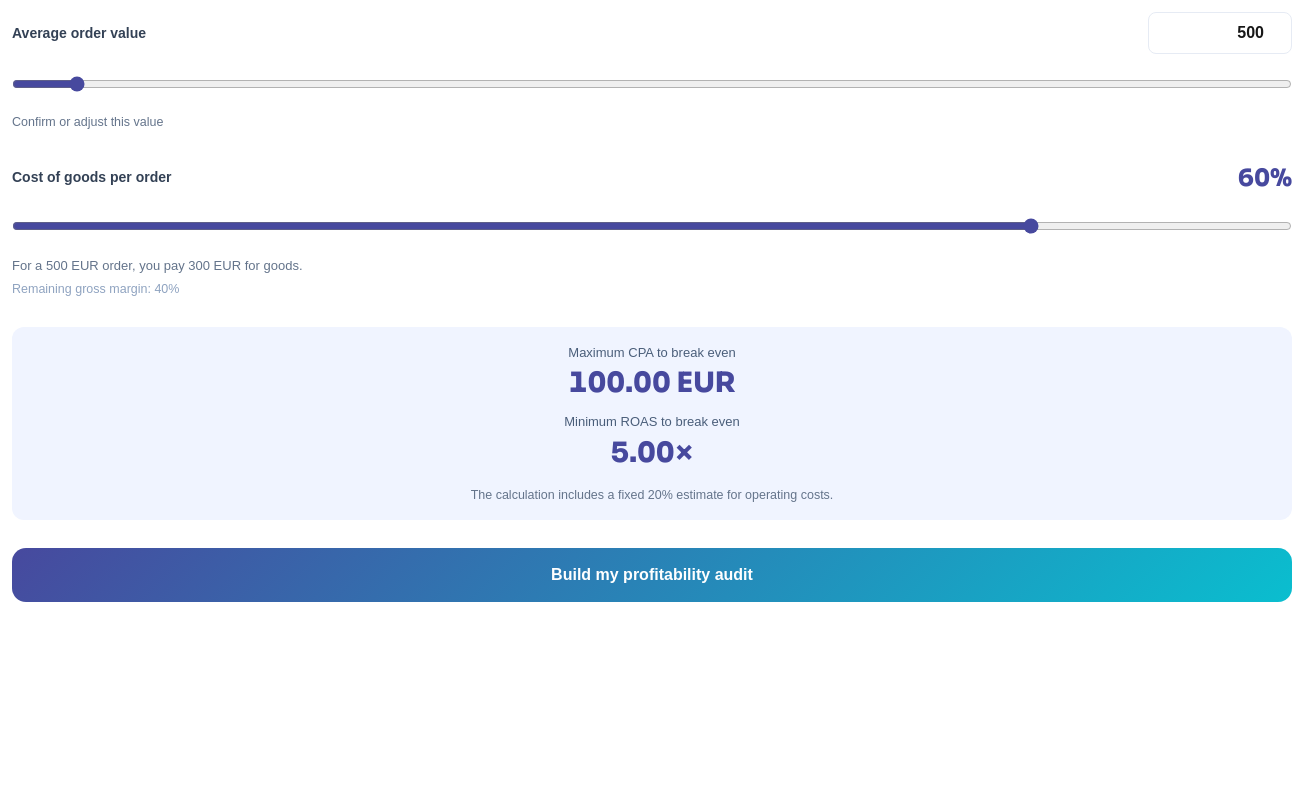
keeps the acquisition percentage stable when the average order value changes
Clear the number field labelled "Average order value" at coordinates (1220, 33), box [1148,12,1292,54]
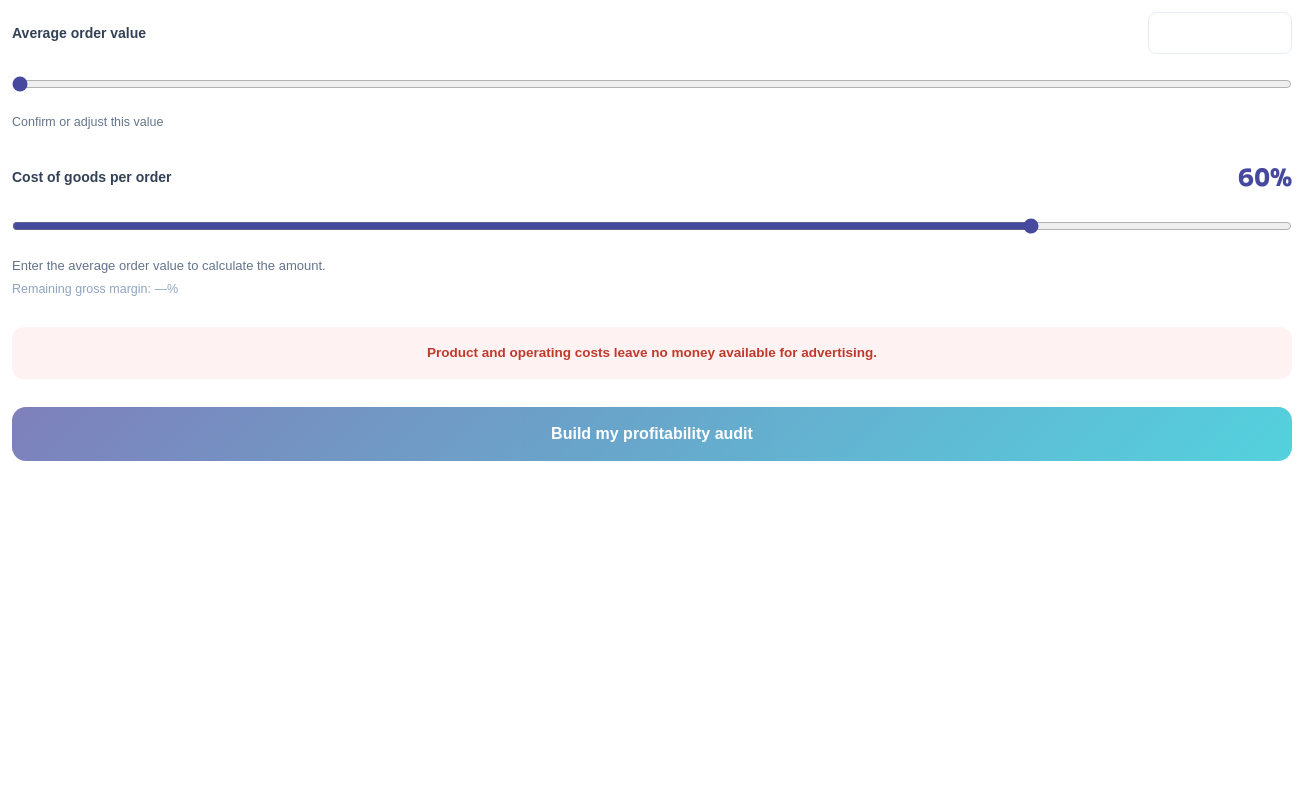
Type "600" into the number field labelled "Average order value" at coordinates (1220, 33), box [1148,12,1292,54]
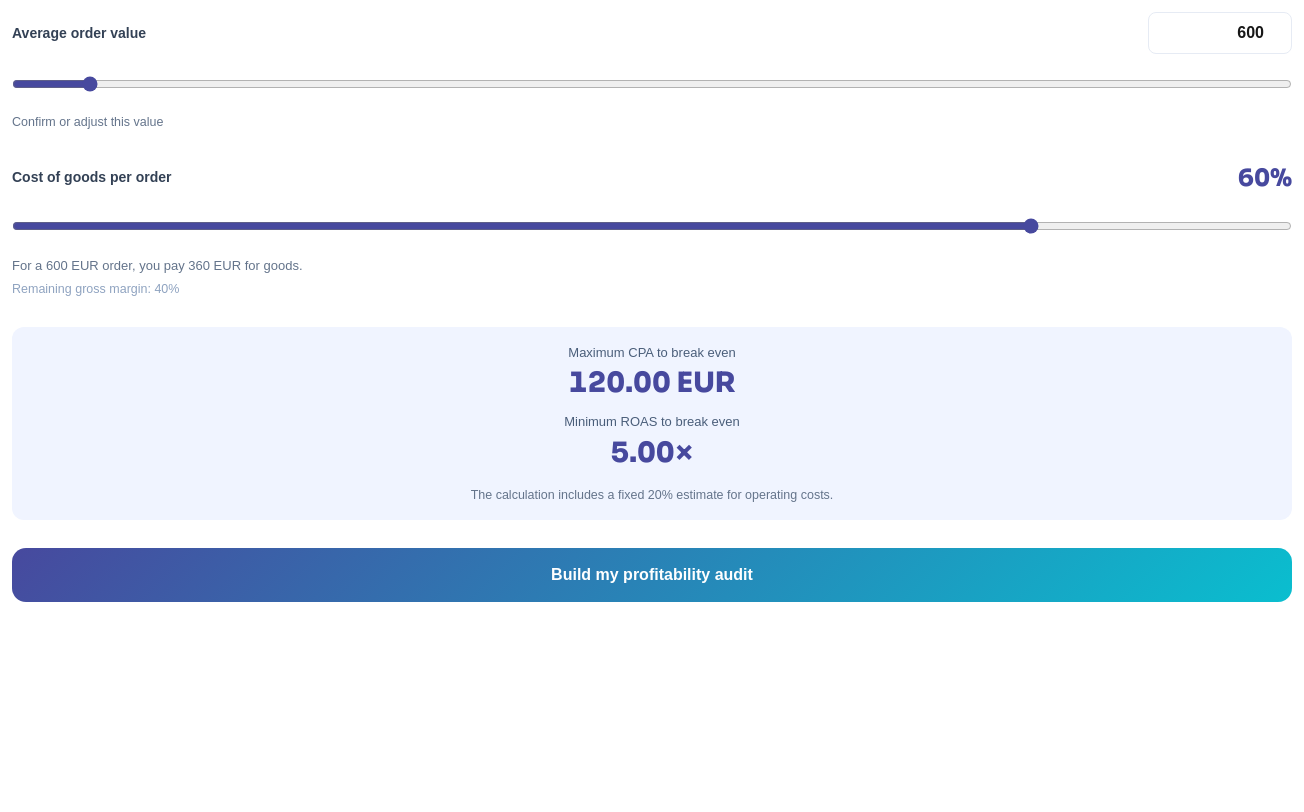
Expected: the element named "goodsCost" holds "360", [12,160,1292,299]
Result: the text "For a 600 EUR order, you pay 360 EUR for goods." is shown at [12,258,302,273]
